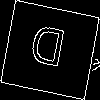D: (25, 24, 68, 76)
